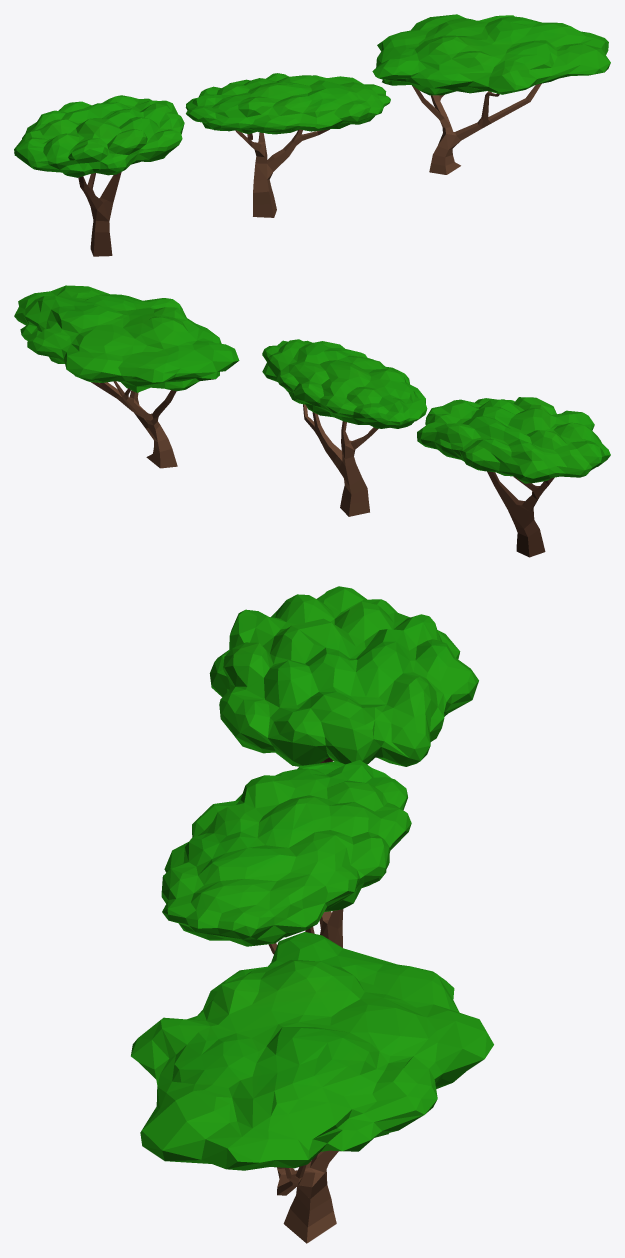
File: trees A.fbx
3 views of the same model, one above another, from view 1: azimuth 30°, elevation 25°; view 2: azimuth 150°, elevation 25°; view 3: azimuth 270°, elevation 25° (orthographic). The views are drawn at different scales.
Visible parts, largest first — view 1: Tree.A_03, Tree.A_01, Tree.A_02; view 2: Tree.A_03, Tree.A_01, Tree.A_02; view 3: Tree.A_03, Tree.A_01, Tree.A_02.
Part boxes in pixels (x1,y1,x2,y2): Tree.A_03: (372, 14, 610, 174); Tree.A_01: (14, 95, 184, 256); Tree.A_02: (185, 73, 390, 217); Tree.A_03: (14, 285, 239, 468); Tree.A_01: (417, 397, 610, 557); Tree.A_02: (262, 339, 427, 516); Tree.A_03: (131, 932, 493, 1243); Tree.A_01: (209, 586, 478, 766); Tree.A_02: (161, 760, 411, 954).
Size of the model in its own units: 4113 by 922 by 1143.
2 materials, 2 textured.
